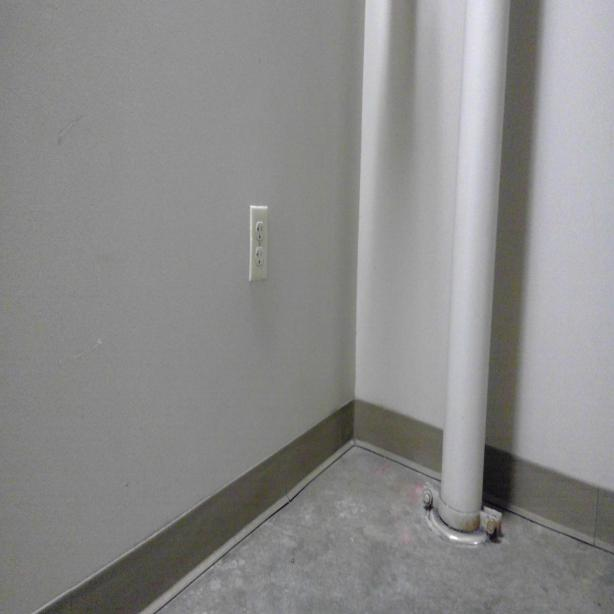typeb: (255, 222, 265, 242), (256, 245, 264, 264)
